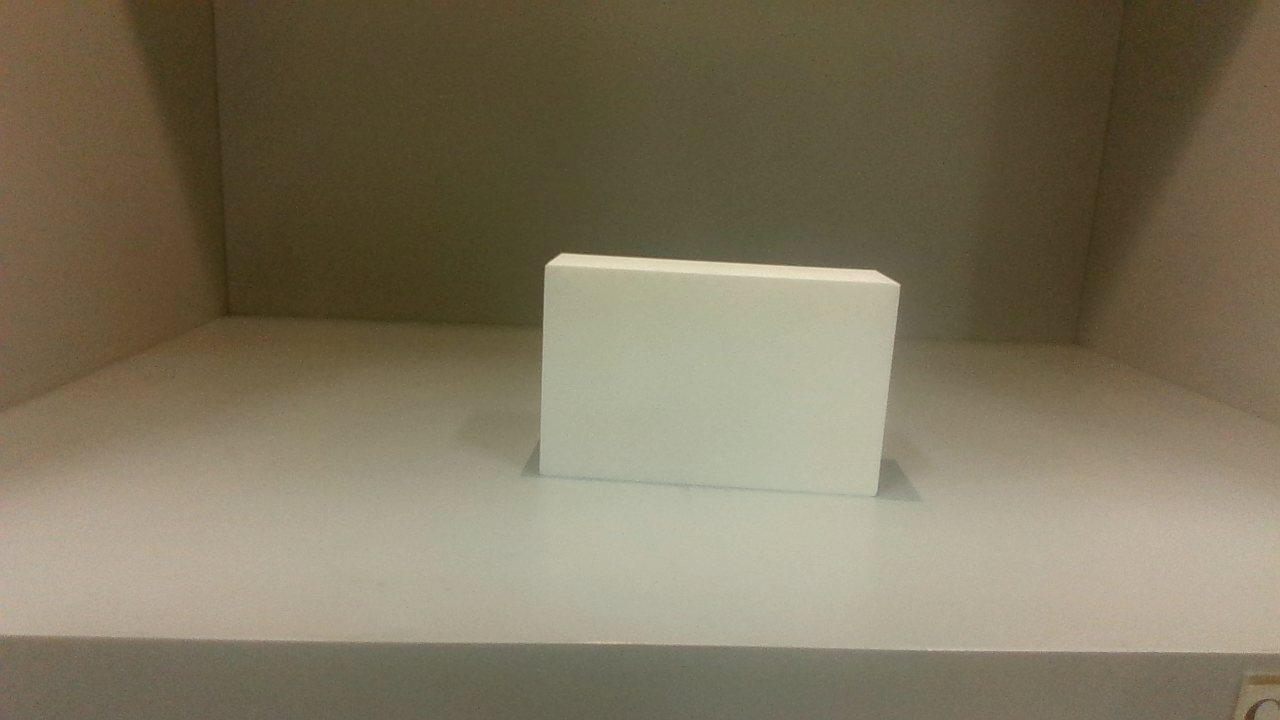Retangulo: (540, 253, 899, 495)
